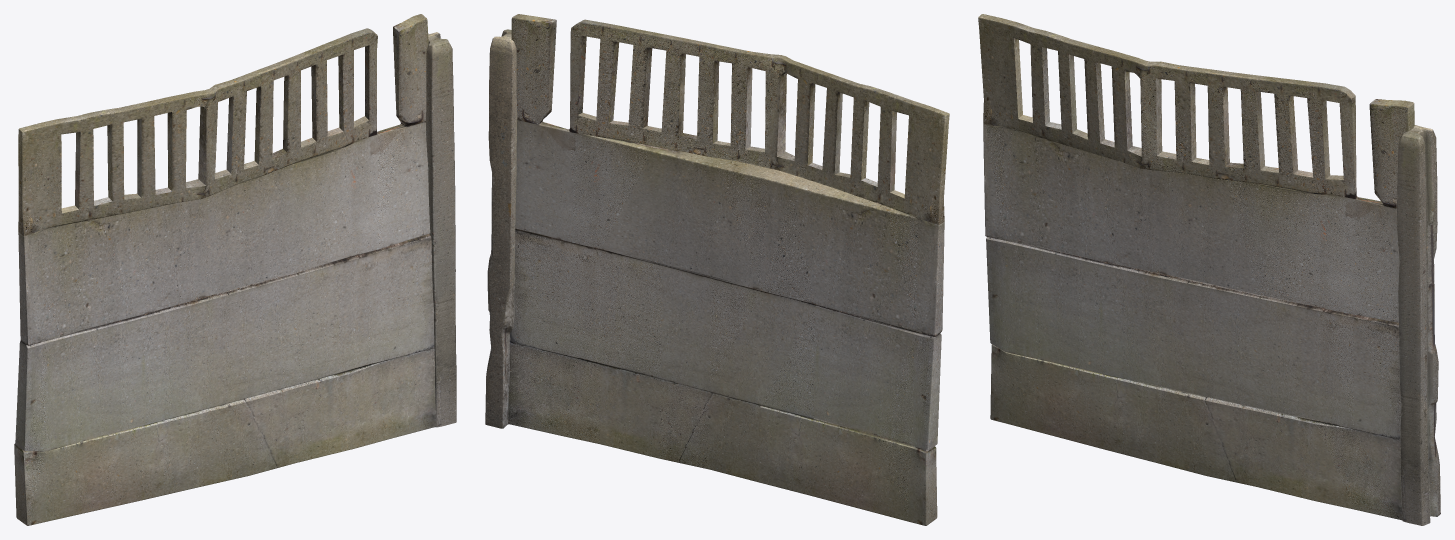
Rendered from sm_ConcreteFence_01_04.fbx.
3 renders of one model, left to right at view 1: azimuth 30°, elevation 25°; view 2: azimuth 150°, elevation 25°; view 3: azimuth 330°, elevation 25°, orthographic.
Visible parts, largest first — view 1: sm_ConcreteFence_01_04_LOD0; view 2: sm_ConcreteFence_01_04_LOD0; view 3: sm_ConcreteFence_01_04_LOD0.
Boxes of the visible parts, x1,y1,x2,y2 form: sm_ConcreteFence_01_04_LOD0: (14, 14, 456, 525); sm_ConcreteFence_01_04_LOD0: (485, 14, 949, 525); sm_ConcreteFence_01_04_LOD0: (978, 14, 1440, 525).
Size of the model in its own units: 29.61 by 225 by 200.
